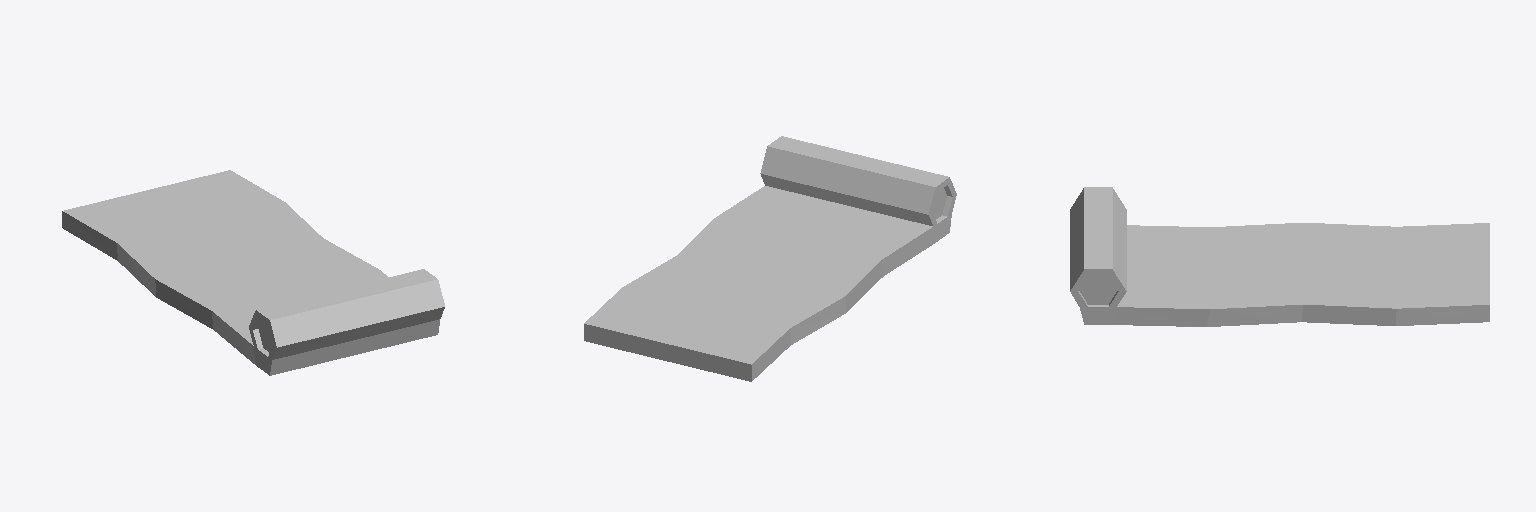
Rendered from SleepingMat.obj.
The picture shows the model from 3 angles: view 1: azimuth 30°, elevation 25°; view 2: azimuth 150°, elevation 25°; view 3: azimuth 270°, elevation 25°; orthographic projection.
Parts seen in each view (by area): view 1: Cylinder_Cylinder.050; view 2: Cylinder_Cylinder.050; view 3: Cylinder_Cylinder.050.
Boxes of the visible parts, x1=… form: Cylinder_Cylinder.050: x1=62, y1=170, x2=444, y2=375; Cylinder_Cylinder.050: x1=584, y1=136, x2=956, y2=381; Cylinder_Cylinder.050: x1=1070, y1=187, x2=1489, y2=326.
Size of the model in its own units: 7.26 by 2.17 by 14.83.